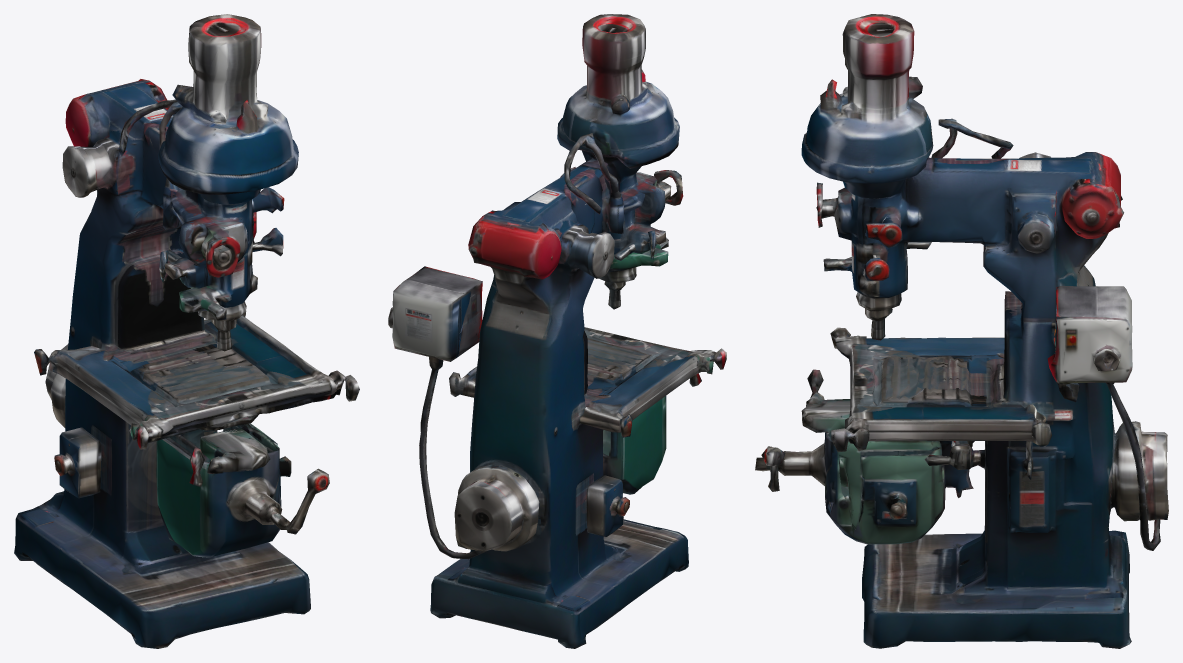
The model's file is machinery.glb.
3 views of the same model, side by side, from view 1: azimuth 30°, elevation 25°; view 2: azimuth 150°, elevation 25°; view 3: azimuth 270°, elevation 25° (orthographic). The views are drawn at different scales.
Bounding box in the file's own units: 0.8487 × 2.01 × 1.29.
1 material, 1 textured.
